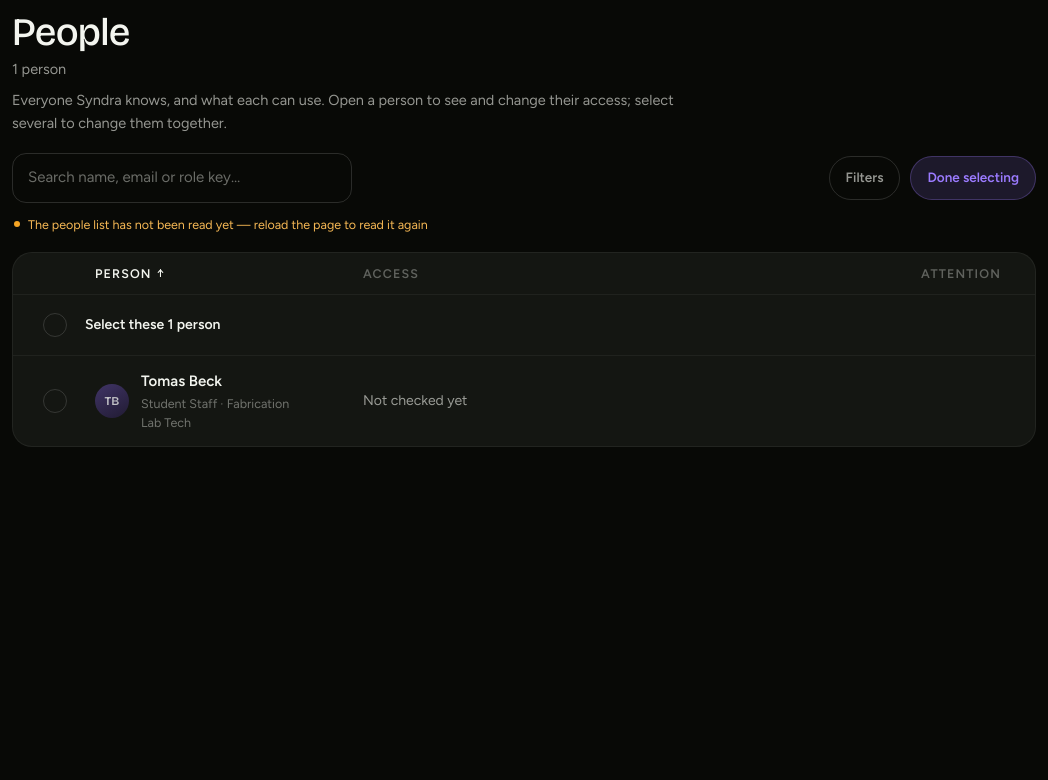
Test: People index › gives Select's bundle verb its one name
The width and height of the screenshot is (1048, 780).
Click the checkbox named "Select Tomas Beck" at point(112, 401), box [13,355,1035,446]
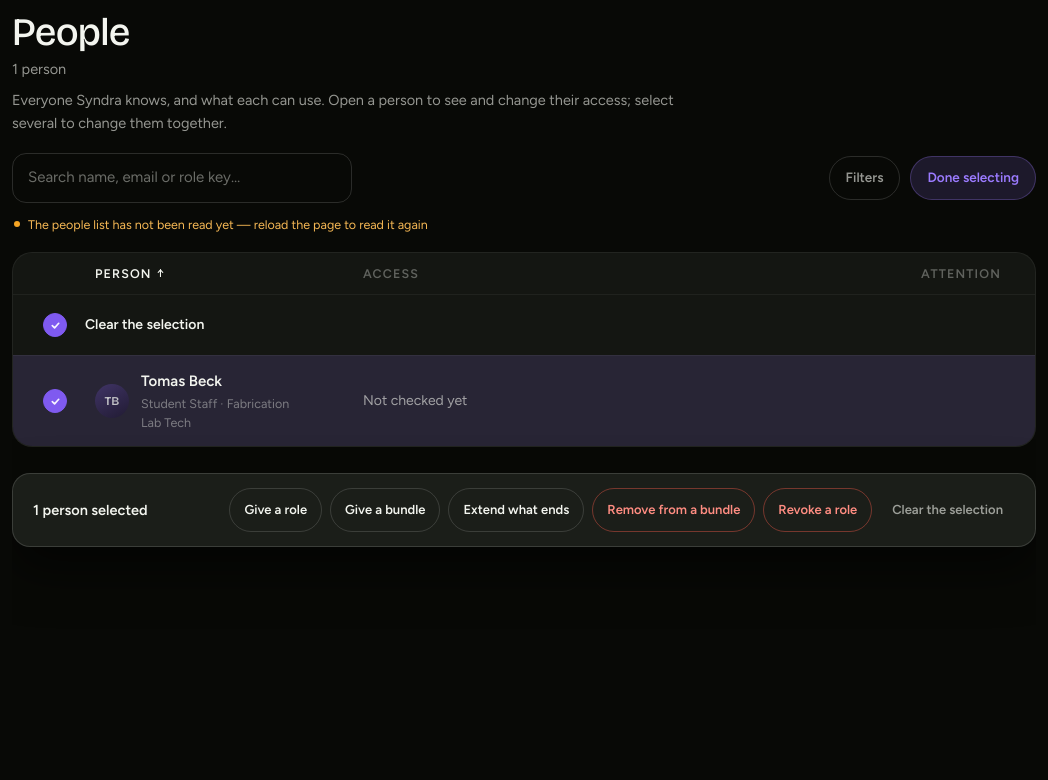
expect the button "Give a bundle" is shown: met, box [330,488,440,532]
